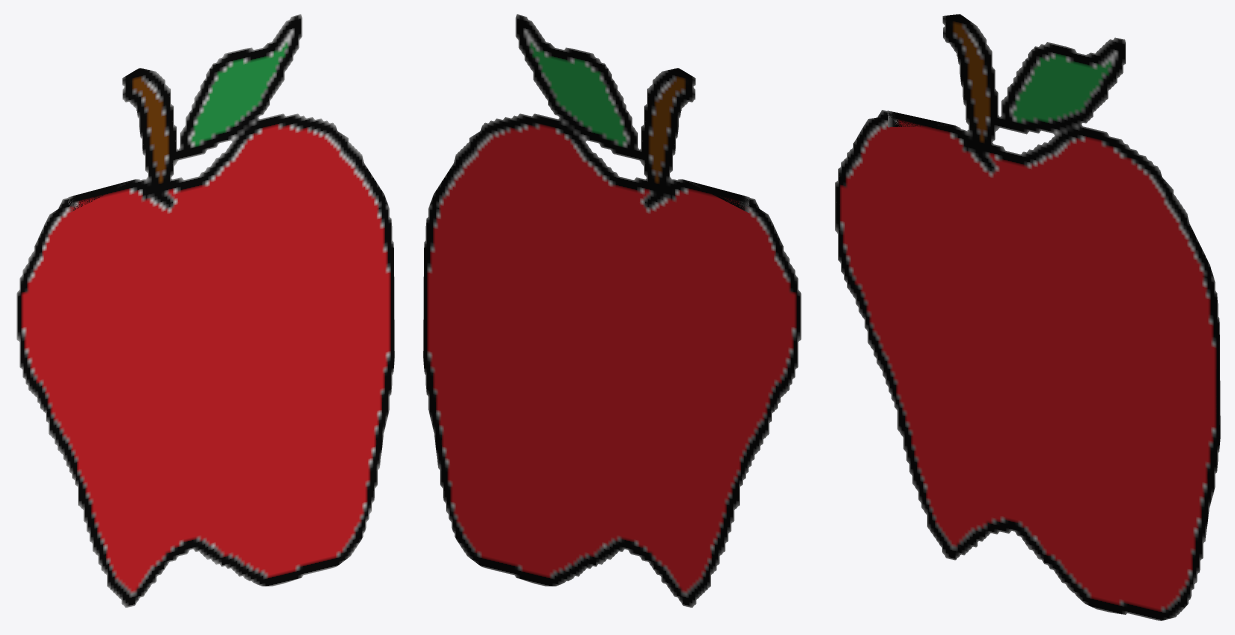
File: apple.fbx
3 views of the same model, side by side, from view 1: azimuth 30°, elevation 25°; view 2: azimuth 150°, elevation 25°; view 3: azimuth 330°, elevation 25° (orthographic). The views are drawn at different scales.
Parts seen in each view (by area): view 1: Cube; view 2: Cube; view 3: Cube.
Boxes of the visible parts, left/top/right/bottom form: Cube: left=16, top=14, right=394, bottom=607; Cube: left=423, top=14, right=801, bottom=607; Cube: left=835, top=14, right=1220, bottom=620.
Size of the model in its own units: 154 by 218 by 3.56e-05.
